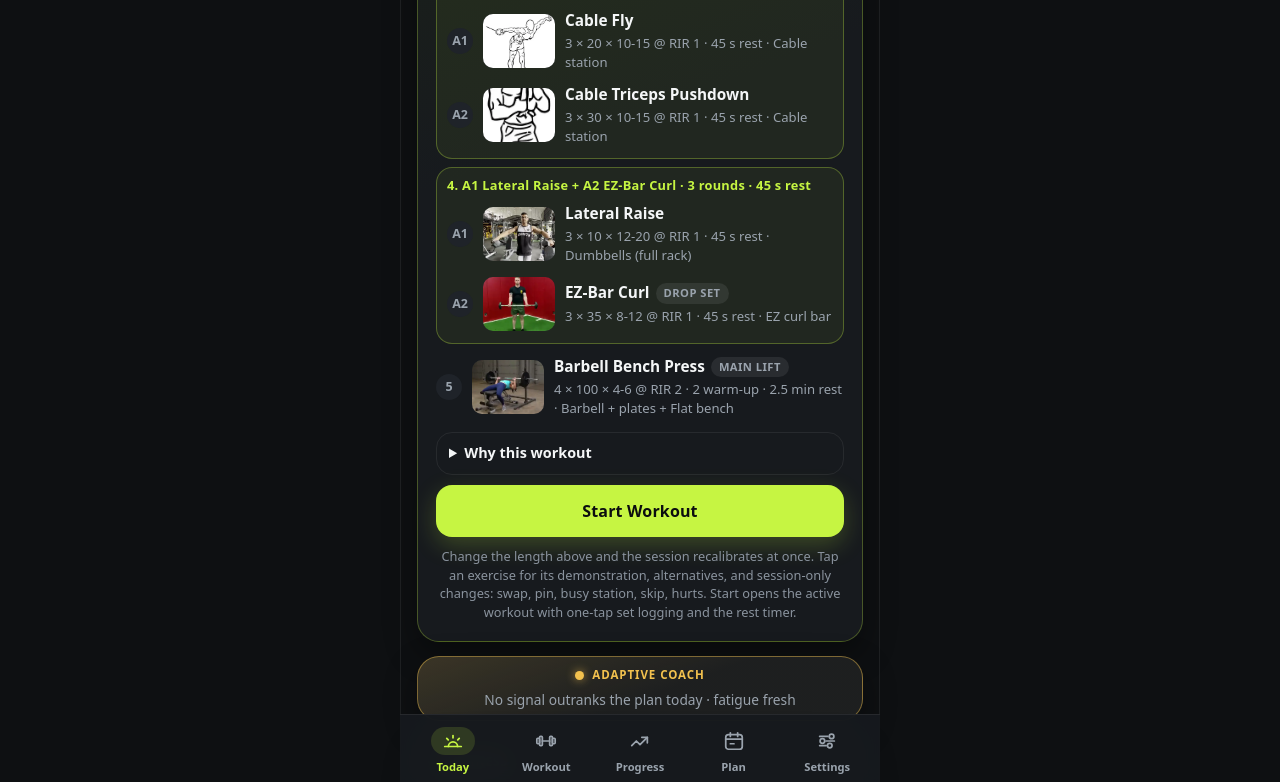
Test: Equipment busy on the screens › on Today, is off with nothing left after it and says why; Skip today stays
(page scrolled)
Click the button with test id "workout-entry" that starts with "Barbell Bench Press".
click(640, 387)  # box [436,352,844,422]
(page scrolled)
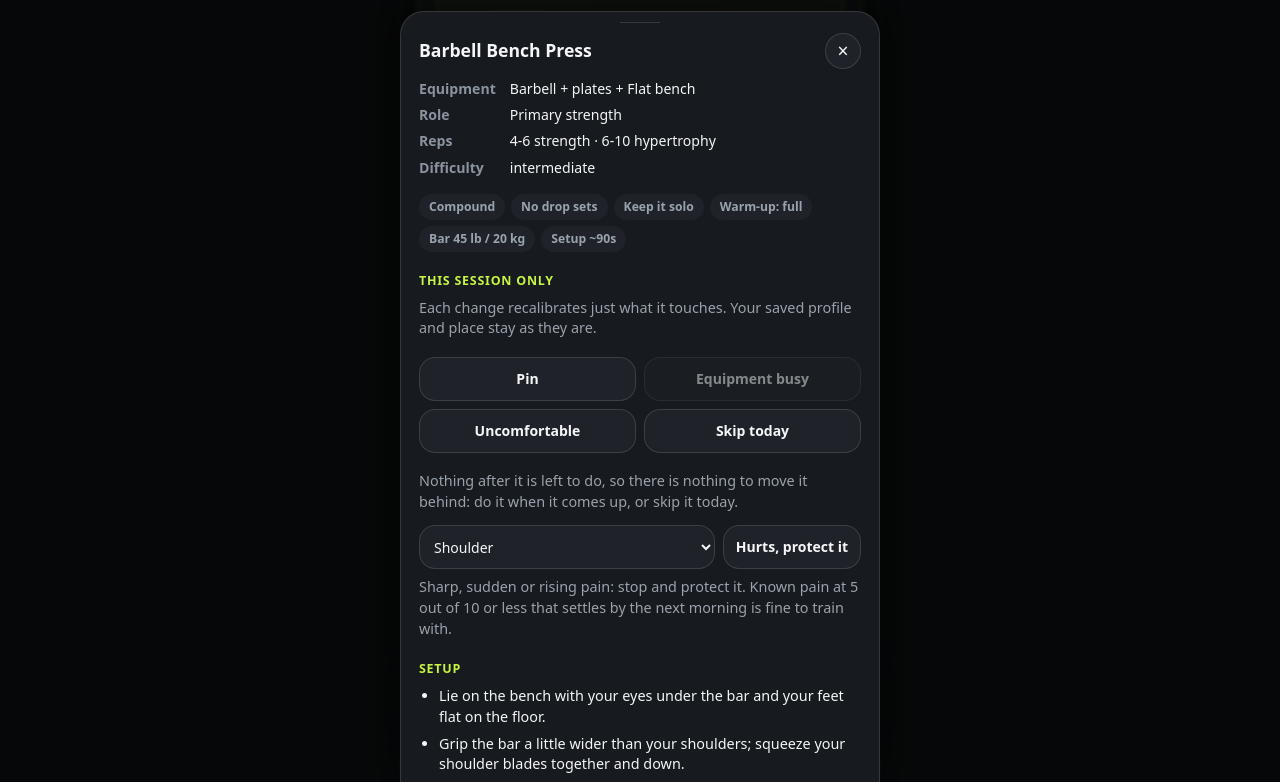
Now the button with test id "equipment-busy" is disabled, box [644,357,861,401]
Now the text with test id "busy-reason" shows "Nothing after it is left to do, so there is nothing to move it behind: do it when it comes up, or skip it today.", box [419,471,807,511]
Now the button with test id "skip-today" is enabled, box [644,409,861,453]
